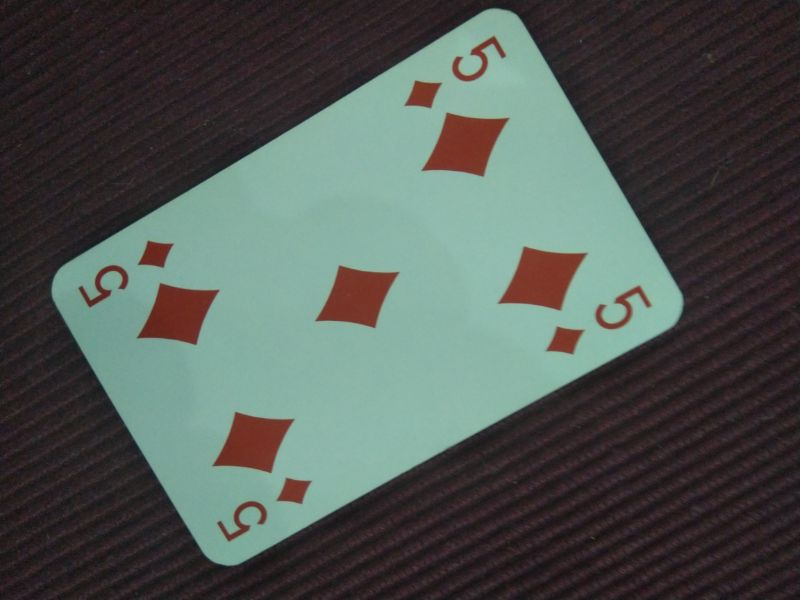5d: (397, 32, 509, 111), (543, 280, 655, 356), (76, 236, 179, 312), (215, 476, 314, 543)
